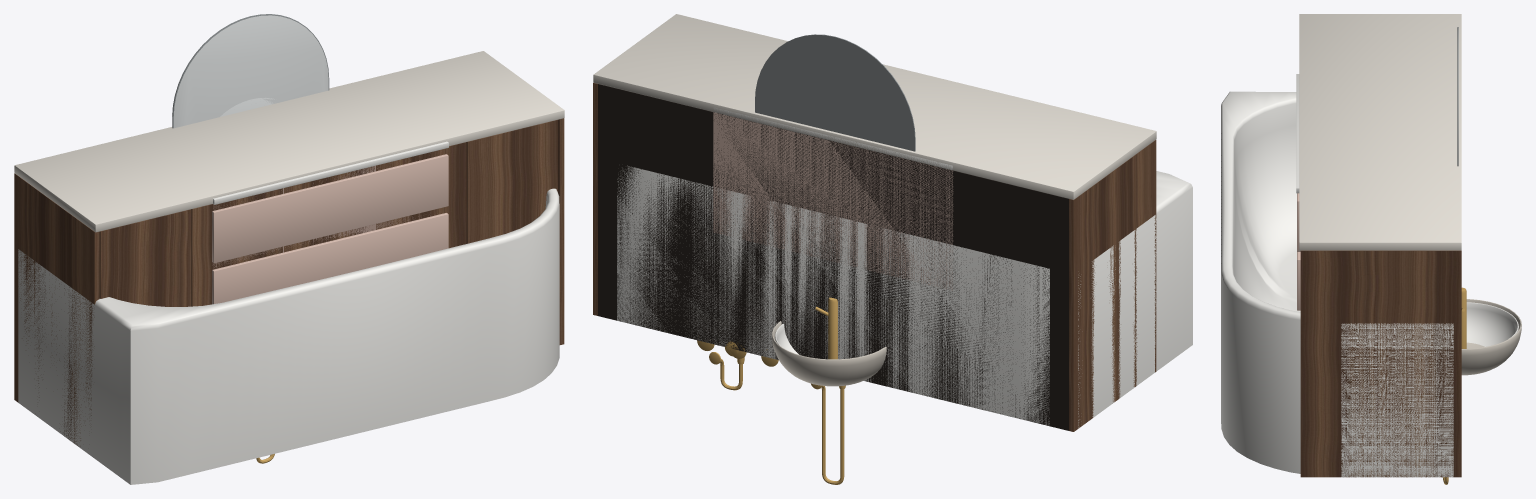
Rendered from fittings.glb.
The picture shows the model from 3 angles, left to right: view 1: azimuth 30°, elevation 25°; view 2: azimuth 150°, elevation 25°; view 3: azimuth 270°, elevation 25°; orthographic projection. The views are drawn at different scales.
Parts seen in each view (by area): view 1: Bath, DoubleVanity, DrawerVanity, PillMirror; view 2: DoubleVanity, Bath, DrawerVanity, PillMirror, BowlBasin, ShowerSet, BathMixer, BasinMixer; view 3: DoubleVanity, Bath, BowlBasinWhite, BowlBasin, DrawerVanity, BasinMixer.
Boxes of the visible parts, <box> form: Bath: <box>18,188,559,484</box>; DoubleVanity: <box>14,51,564,446</box>; DrawerVanity: <box>212,141,448,304</box>; PillMirror: <box>172,14,329,128</box>; DoubleVanity: <box>593,14,1156,431</box>; Bath: <box>617,165,1192,427</box>; DrawerVanity: <box>713,107,953,290</box>; PillMirror: <box>755,34,915,151</box>; BowlBasin: <box>772,321,886,386</box>; ShowerSet: <box>697,336,845,484</box>; BathMixer: <box>709,341,778,390</box>; BasinMixer: <box>815,297,837,359</box>; DoubleVanity: <box>1299,14,1461,477</box>; Bath: <box>1221,91,1453,477</box>; BowlBasinWhite: <box>1466,302,1518,346</box>; BowlBasin: <box>1461,299,1521,375</box>; DrawerVanity: <box>1296,74,1300,310</box>; BasinMixer: <box>1461,287,1466,348</box>.
Size of the model in its own units: 1.8 by 1.63 by 1.
Materials: 13 (1 with a texture image).
